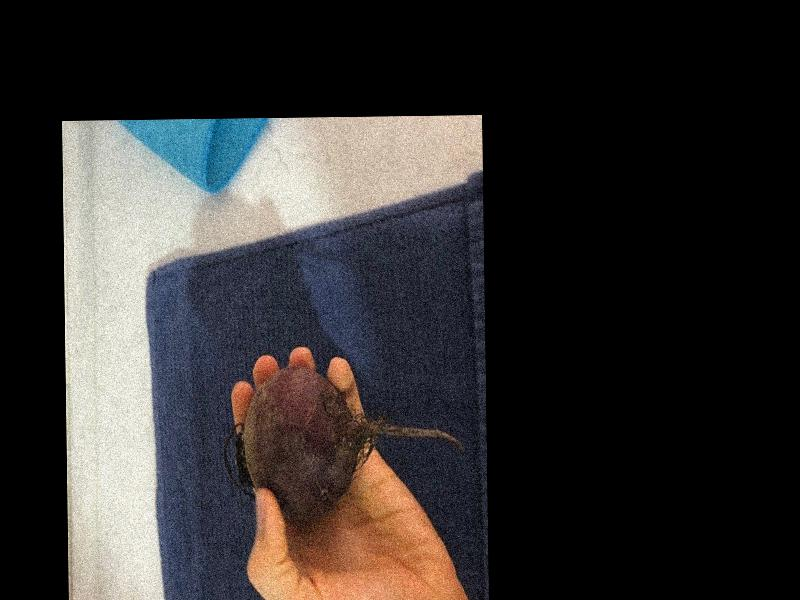Beet: (223, 363, 465, 520)
